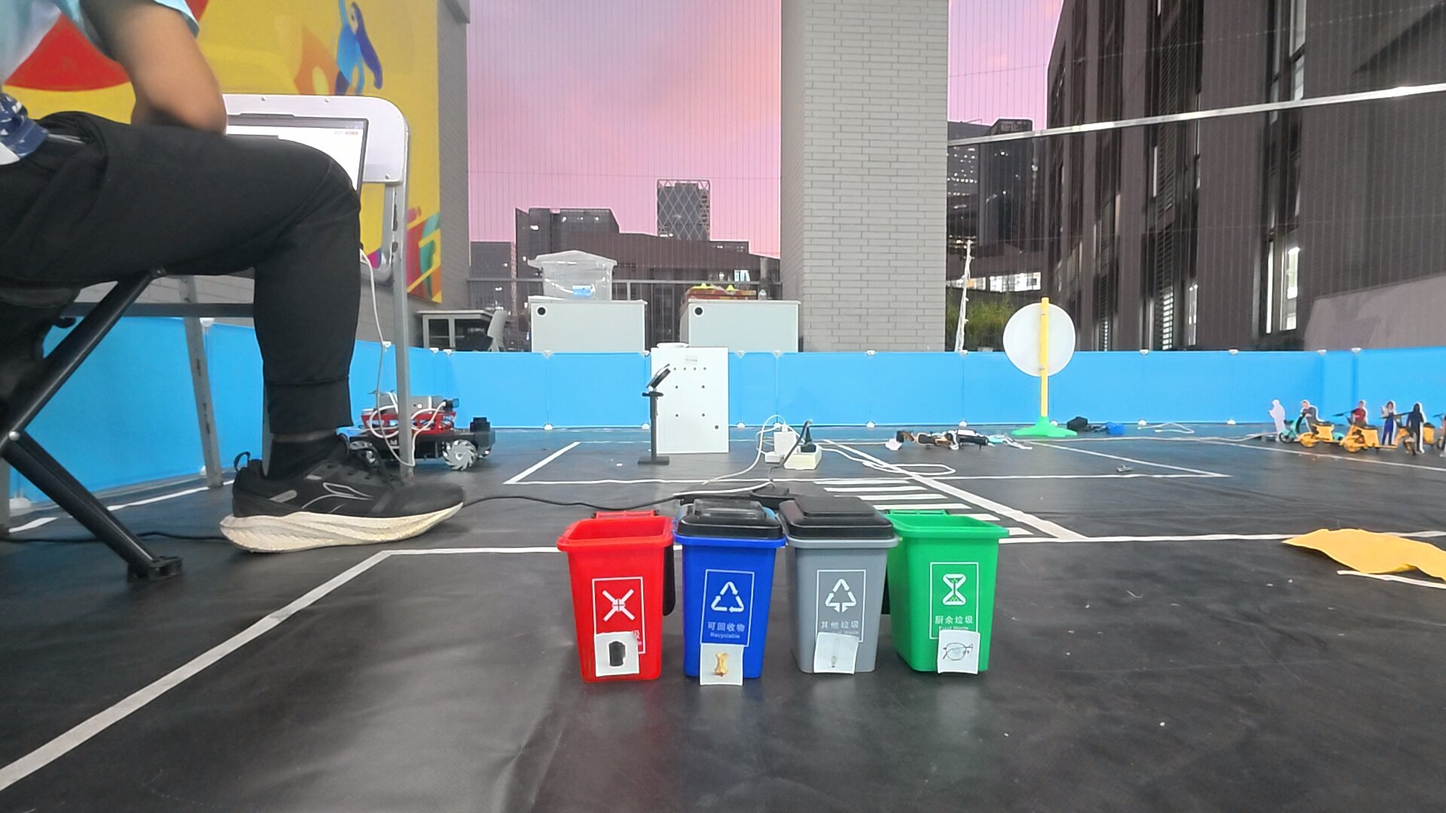food_trash: (941, 633, 977, 671), (704, 646, 741, 682)
hazardous_trash: (598, 636, 634, 673)
other_trash: (817, 637, 855, 671)
recyclable_trash: (704, 647, 740, 683)
